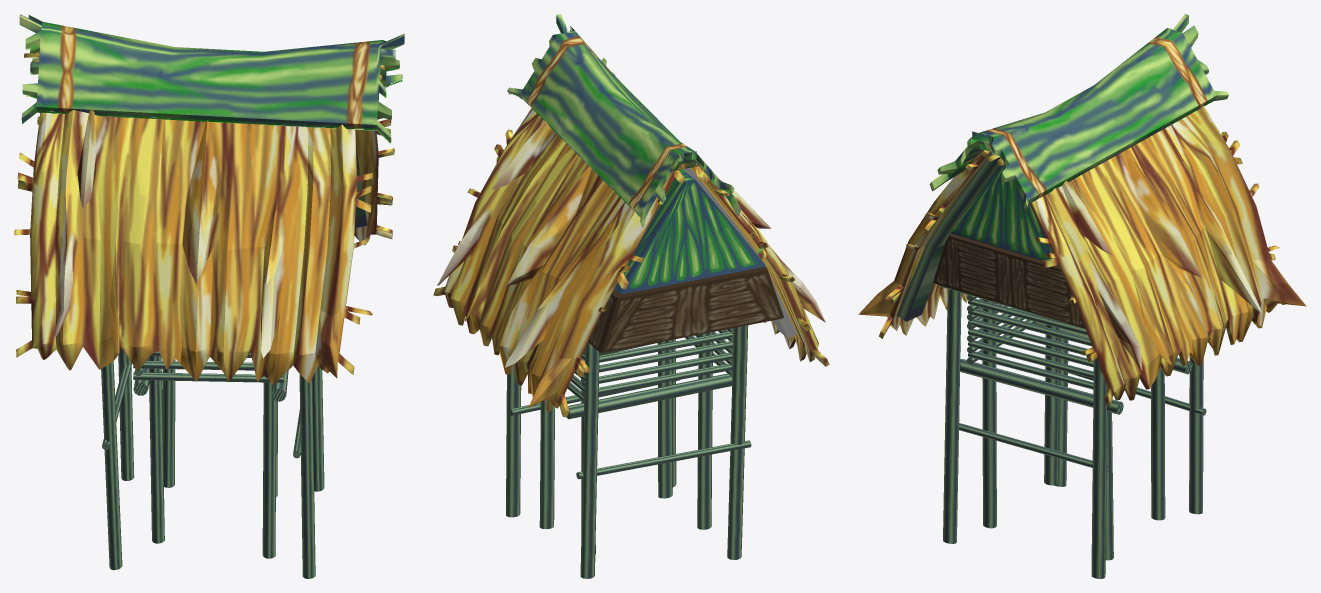
Rendered from Maison II.FBX.
3 renders of one model, left to right at view 1: azimuth 30°, elevation 25°; view 2: azimuth 150°, elevation 25°; view 3: azimuth 270°, elevation 25°, orthographic. The views are drawn at different scales.
Visible parts, largest first — view 1: ModeleMaison003; view 2: ModeleMaison003; view 3: ModeleMaison003.
Part boxes in pixels (left/top/right/bottom): ModeleMaison003: left=14, top=14, right=404, bottom=578; ModeleMaison003: left=433, top=14, right=829, bottom=578; ModeleMaison003: left=858, top=14, right=1306, bottom=578.
Bounding box in the file's own units: 272 × 324 × 285.
